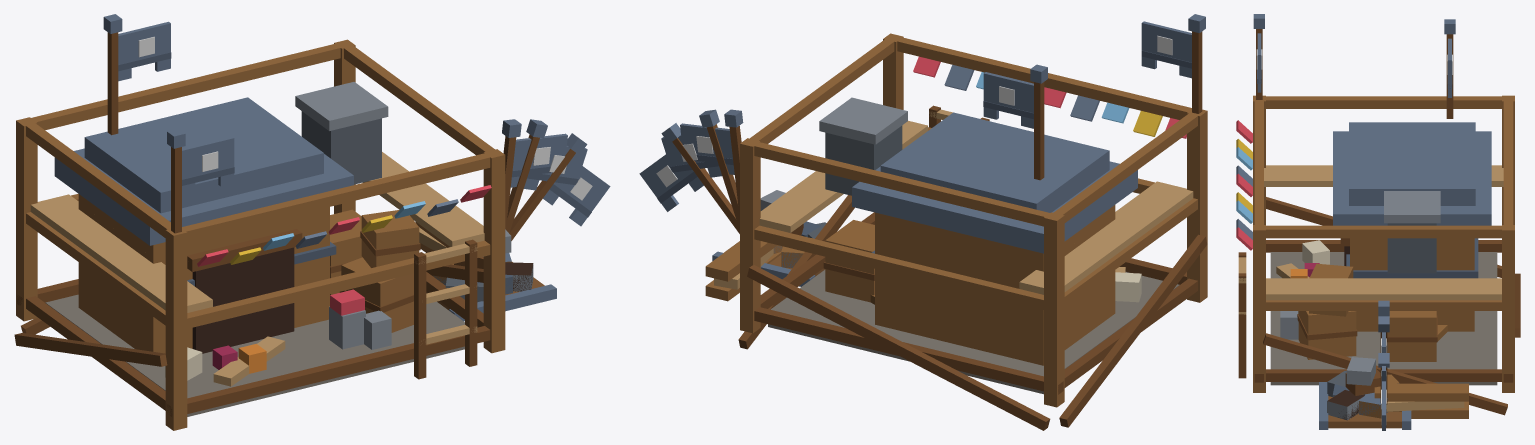
File: raccoon-producer.glb
The picture shows the model from 3 angles, left to right: view 1: azimuth 30°, elevation 25°; view 2: azimuth 150°, elevation 25°; view 3: azimuth 270°, elevation 25°; orthographic projection. The views are drawn at different scales.
Parts seen in each view (by area): view 1: scaffold-mesh, built-mesh, dismantle-75-mesh, dismantle-50-mesh, dismantle-25-mesh, banner, scaffold-banner, dismantle-25-banner, dismantle-75-banner, flag-pole, dismantle-25-flag-pole, scaffold-flag-pole (+3 smaller); view 2: scaffold-mesh, built-mesh, dismantle-75-mesh, banner, scaffold-banner, dismantle-25-banner, dismantle-75-banner, flag-pole, dismantle-50-mesh, dismantle-25-flag-pole, dismantle-25-mesh, scaffold-flag-pole (+3 smaller); view 3: scaffold-mesh, built-mesh, dismantle-25-mesh, dismantle-50-mesh, dismantle-75-mesh, flag-pole, scaffold-flag-pole, scaffold-banner, banner, dismantle-25-flag-pole.
Boxes of the visible parts, <box> form: scaffold-mesh: <box>14,39,505,430</box>; built-mesh: <box>54,82,420,380</box>; dismantle-75-mesh: <box>78,203,556,369</box>; dismantle-50-mesh: <box>78,239,556,386</box>; dismantle-25-mesh: <box>115,229,556,385</box>; banner: <box>118,21,171,81</box>; scaffold-banner: <box>182,136,234,195</box>; dismantle-25-banner: <box>543,159,610,226</box>; dismantle-75-banner: <box>510,133,567,187</box>; flag-pole: <box>103,14,122,135</box>; dismantle-25-flag-pole: <box>509,133,587,240</box>; scaffold-flag-pole: <box>167,129,185,233</box>; scaffold-mesh: <box>705,33,1207,430</box>; built-mesh: <box>768,97,1141,394</box>; dismantle-75-mesh: <box>712,213,1140,365</box>; banner: <box>983,72,1033,128</box>; scaffold-banner: <box>1141,21,1191,78</box>; dismantle-25-banner: <box>639,147,703,211</box>; dismantle-75-banner: <box>680,123,734,174</box>; flag-pole: <box>1030,64,1047,180</box>; dismantle-50-mesh: <box>712,234,1140,349</box>; dismantle-25-flag-pole: <box>661,123,739,233</box>; dismantle-25-mesh: <box>712,190,1125,304</box>; scaffold-flag-pole: <box>1188,14,1205,113</box>; scaffold-mesh: <box>1236,95,1520,418</box>; built-mesh: <box>1297,122,1491,343</box>; dismantle-25-mesh: <box>1276,263,1447,429</box>; dismantle-50-mesh: <box>1270,244,1497,429</box>; dismantle-75-mesh: <box>1280,240,1411,429</box>; flag-pole: <box>1444,19,1455,118</box>; scaffold-flag-pole: <box>1253,14,1264,99</box>; scaffold-banner: <box>1256,33,1262,92</box>; banner: <box>1447,38,1452,97</box>; dismantle-25-flag-pole: <box>1378,353,1389,404</box>.
Bounding box in the file's own units: 2.65 × 1.64 × 1.51.
